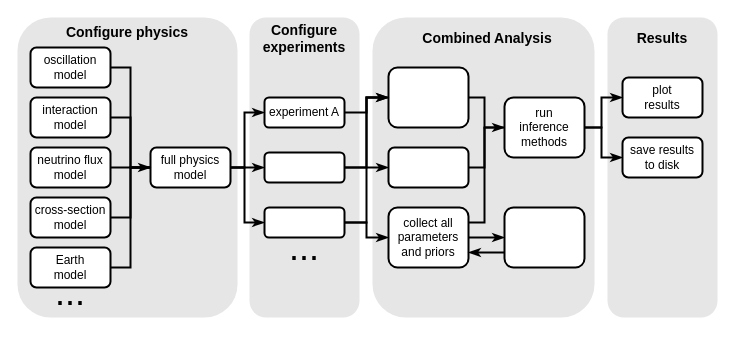
The diagram is 734 pixels wide and 343 high, and some of its shapes have lost their labels. Each missing label, with the centre of its shape:
"experiment B" goes at (x=304, y=167).
"experiment C" goes at (x=304, y=222).
"generate a joint likelihood function" goes at (x=428, y=97).
"generate pseudodata" goes at (x=428, y=167).
"modify parameters and priors" goes at (x=544, y=237).
